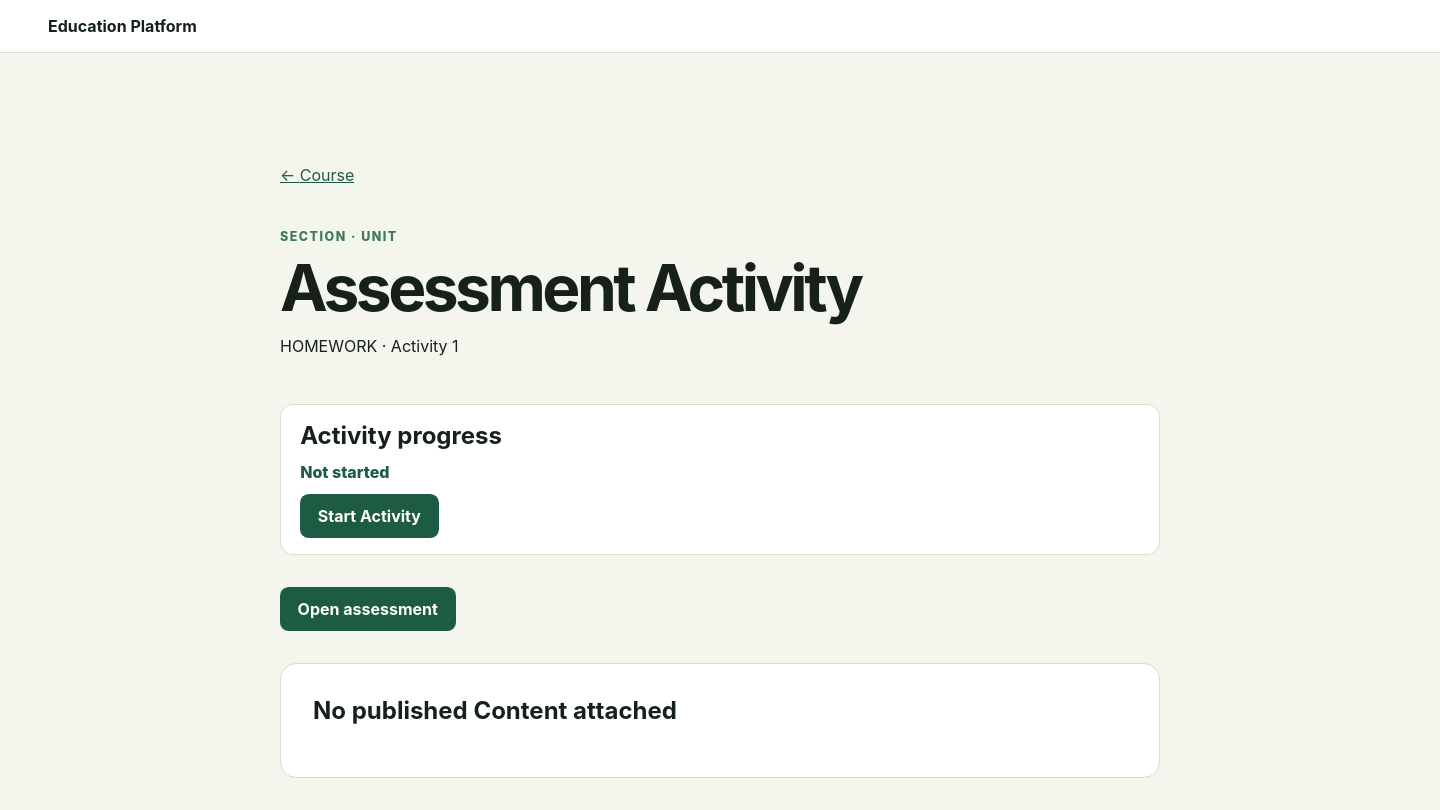
it: Student Assessment UI › opens Assessment from Activity and explicitly creates a DRAFT before canonical navigation
Step 1. Click the button "Open assessment" → coordinates (368, 609), box [280,587,456,631]
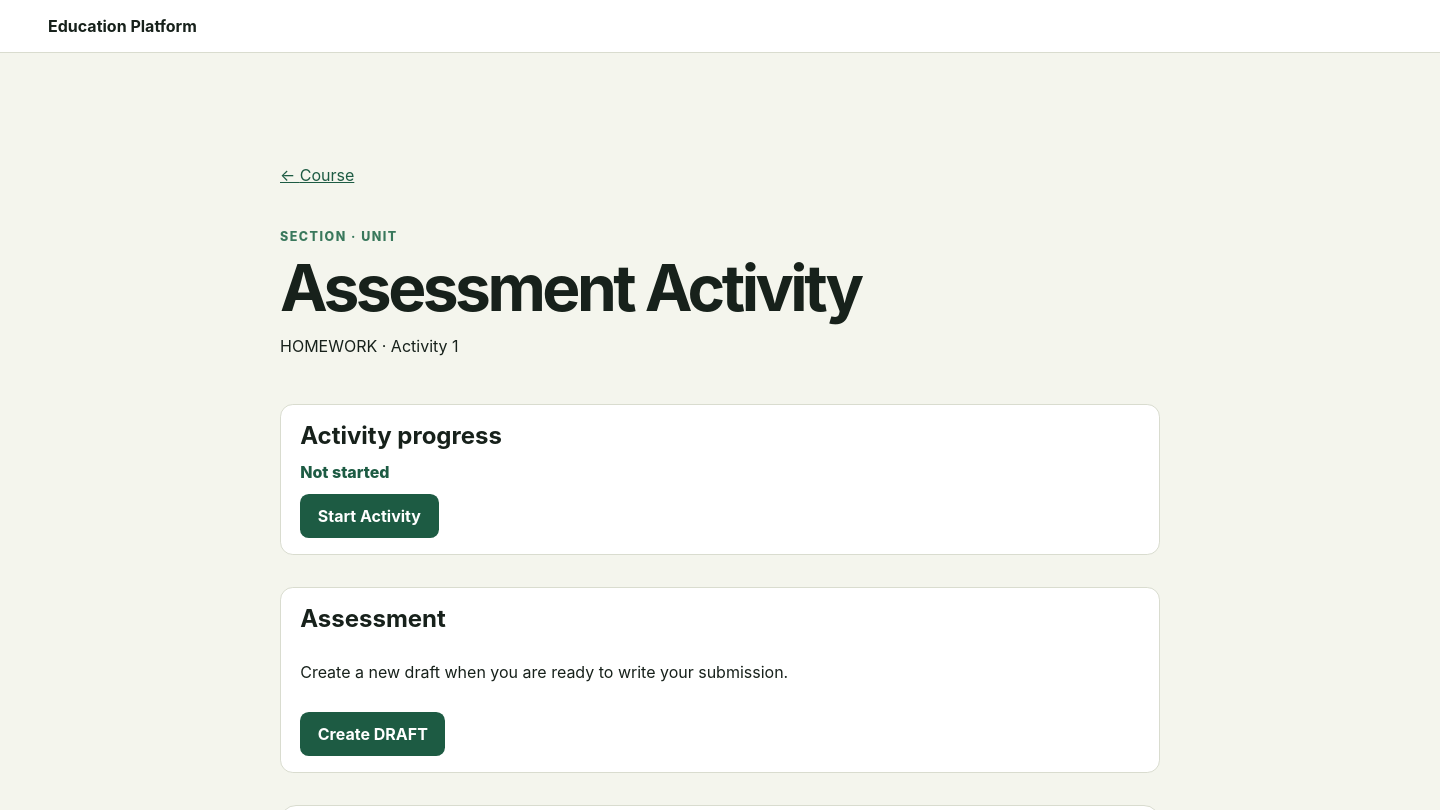
Now the button "Create DRAFT" is shown
Step 2. Click the button "Create DRAFT" → coordinates (373, 734), box [300,712,445,756]
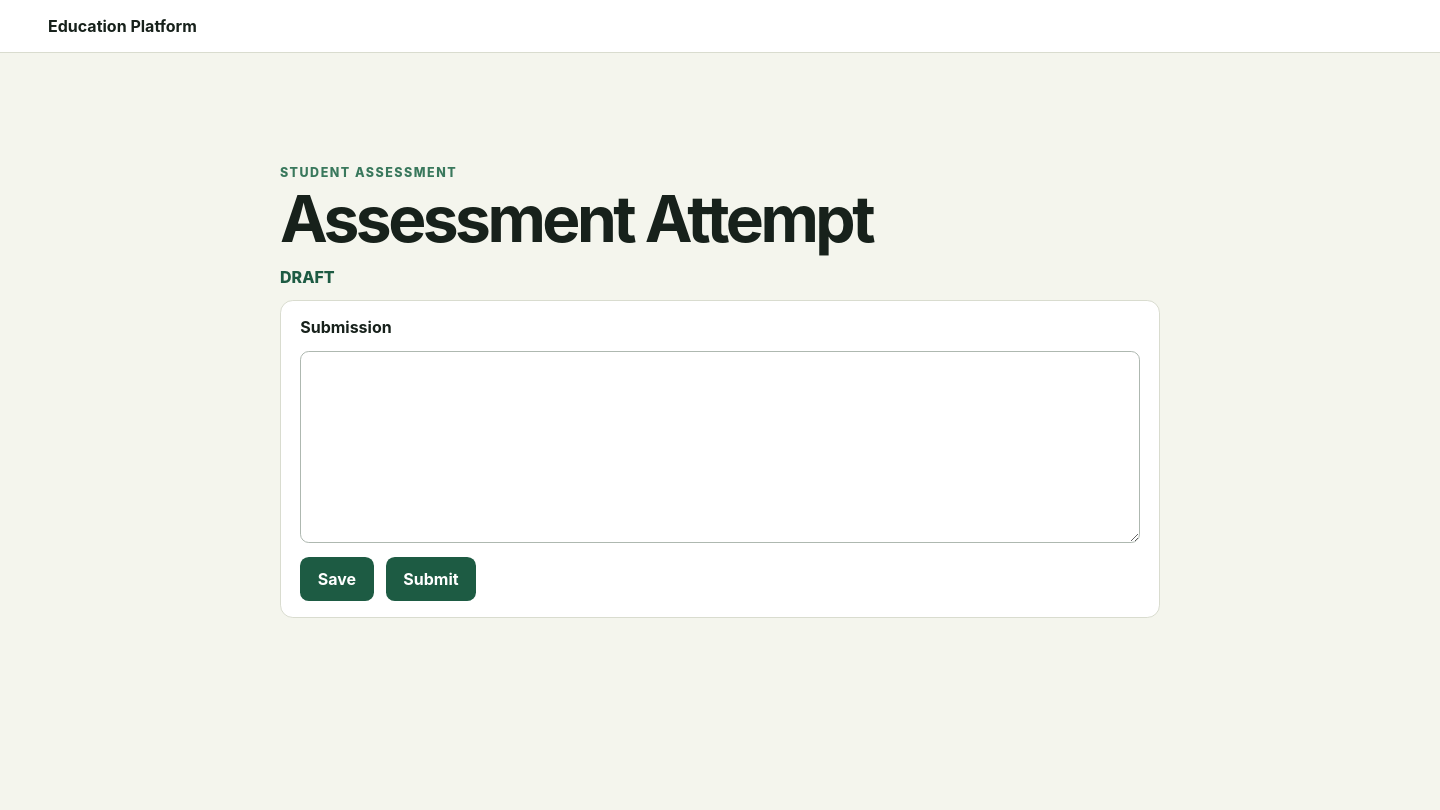
Now the heading "Assessment Attempt" is shown, box [280,180,872,257]
